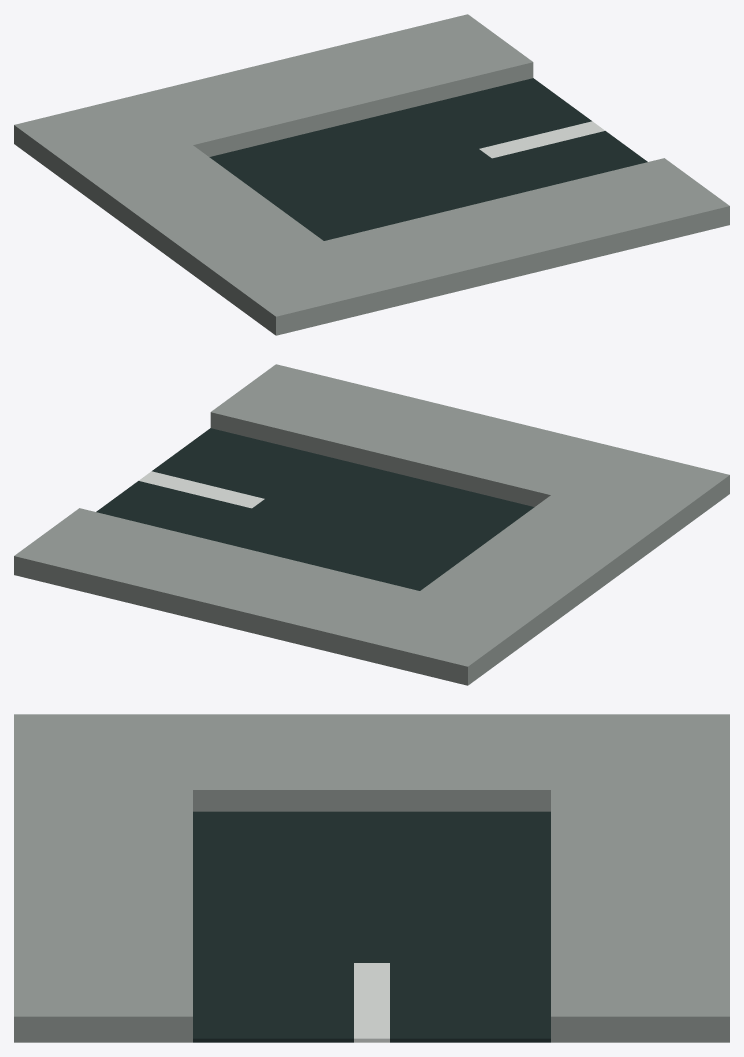
Rendered from Road_Straight_End.fbx.
The picture shows the model from 3 angles, top to bottom: view 1: azimuth 30°, elevation 25°; view 2: azimuth 150°, elevation 25°; view 3: azimuth 270°, elevation 25°; orthographic projection. The views are drawn at different scales.
Parts seen in each view (by area): view 1: Road_Straight_End; view 2: Road_Straight_End; view 3: Road_Straight_End.
Part boxes in pixels (box(x1,y1,x2,y2)): Road_Straight_End: box(14, 14, 729, 335); Road_Straight_End: box(14, 364, 729, 685); Road_Straight_End: box(14, 714, 729, 1042).
Size of the model in its own units: 500 by 20.03 by 500.
